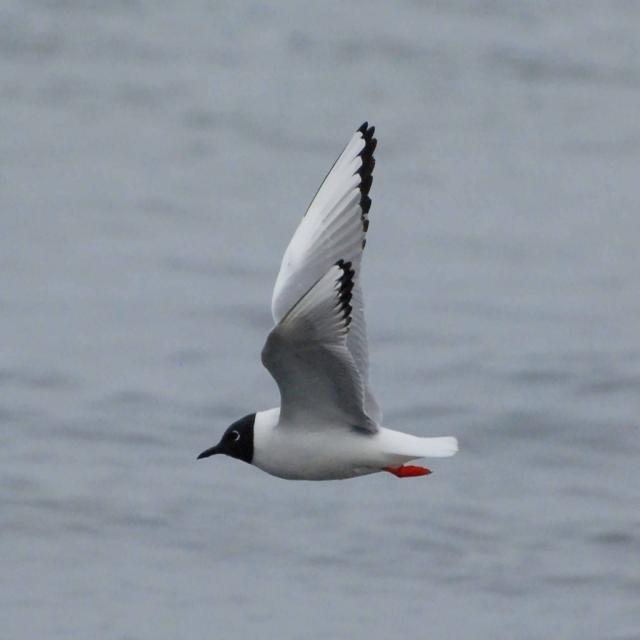bird: (181, 107, 477, 495)
